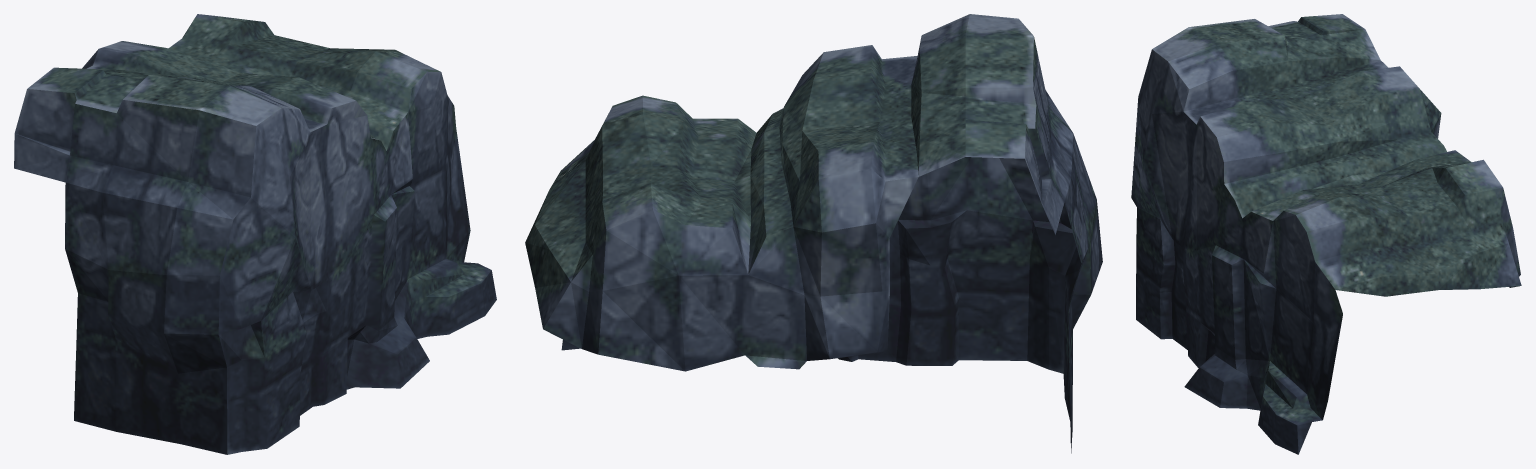
The model's file is cs_lobbynew02_wujian_zhiji_st04.FBX.
3 views of the same model, side by side, from view 1: azimuth 30°, elevation 25°; view 2: azimuth 150°, elevation 25°; view 3: azimuth 270°, elevation 25° (orthographic). The views are drawn at different scales.
Parts seen in each view (by area): view 1: cs_lobbynew02_wujian_zhiji_st04; view 2: cs_lobbynew02_wujian_zhiji_st04; view 3: cs_lobbynew02_wujian_zhiji_st04.
Part boxes in pixels (bbox=[...]): cs_lobbynew02_wujian_zhiji_st04: bbox=[14, 14, 496, 454]; cs_lobbynew02_wujian_zhiji_st04: bbox=[525, 14, 1102, 453]; cs_lobbynew02_wujian_zhiji_st04: bbox=[1131, 14, 1521, 454].
Bounding box in the file's own units: 1213 × 815 × 1035.
